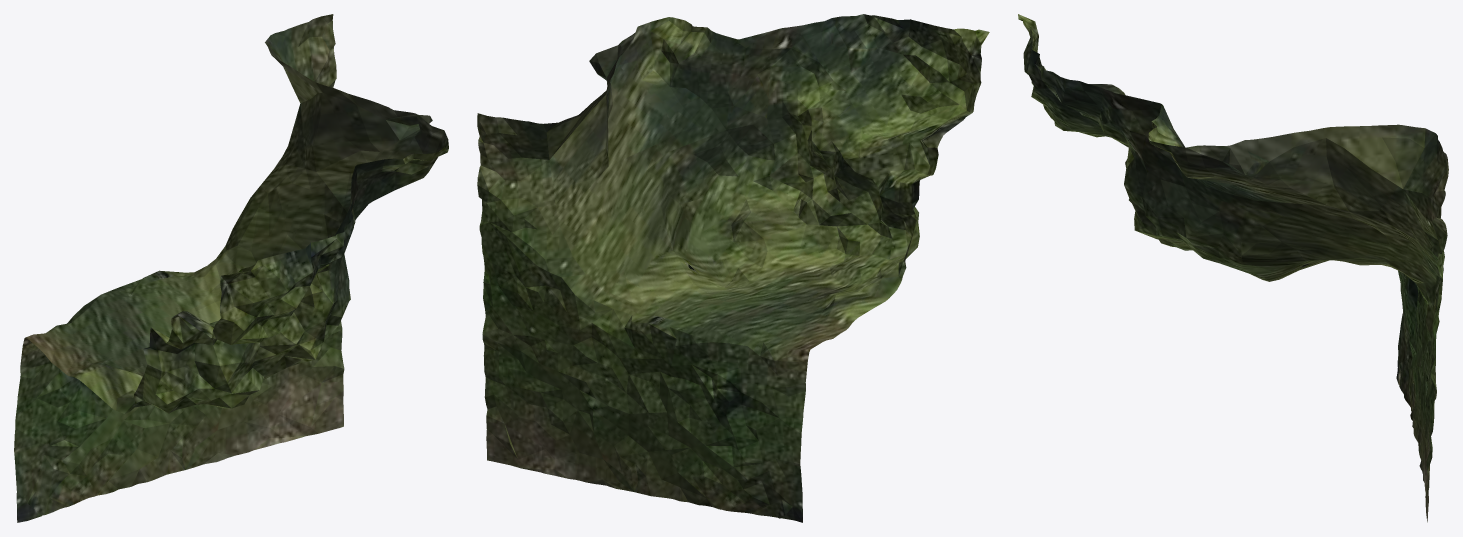
Rendered from tile_4_26_4_tex.obj.
3 views of the same model, side by side, from view 1: azimuth 30°, elevation 25°; view 2: azimuth 150°, elevation 25°; view 3: azimuth 270°, elevation 25° (orthographic). The views are drawn at different scales.
Visible parts, largest first — view 1: obj_0; view 2: obj_0; view 3: obj_0.
Part boxes in pixels (x1,y1,x2,y2): obj_0: [14, 14, 448, 522]; obj_0: [477, 14, 989, 522]; obj_0: [1018, 14, 1448, 522].
Bounding box in the file's own units: 10.02 × 11.27 × 12.23.
Materials: 1 (1 with a texture image).
